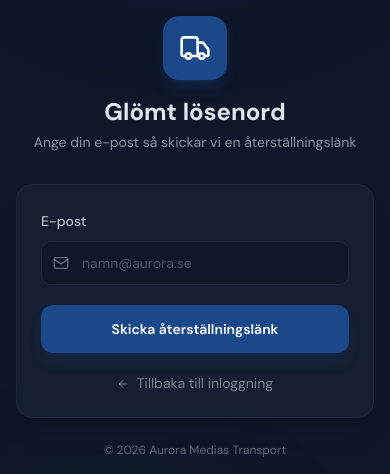
password recovery request › requests the controlled auth-email endpoint and displays an account-neutral response
In the field labelled "E-post": (195, 263) x1=41 y1=241 x2=349 y2=285, type "Anna@Example.com"
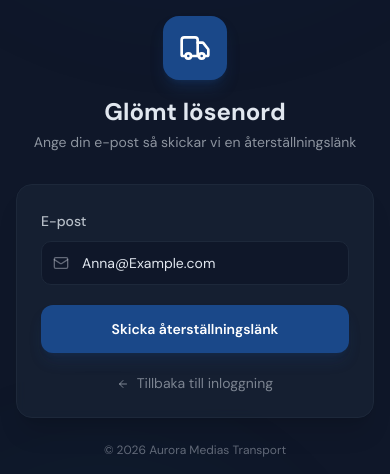
Click the button "Skicka återställningslänk": (195, 329) x1=41 y1=305 x2=349 y2=353
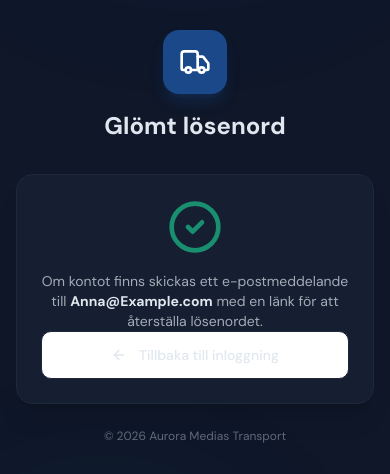
Expected: the text "Om kontot finns" is shown, x1=42 y1=272 x2=348 y2=310
